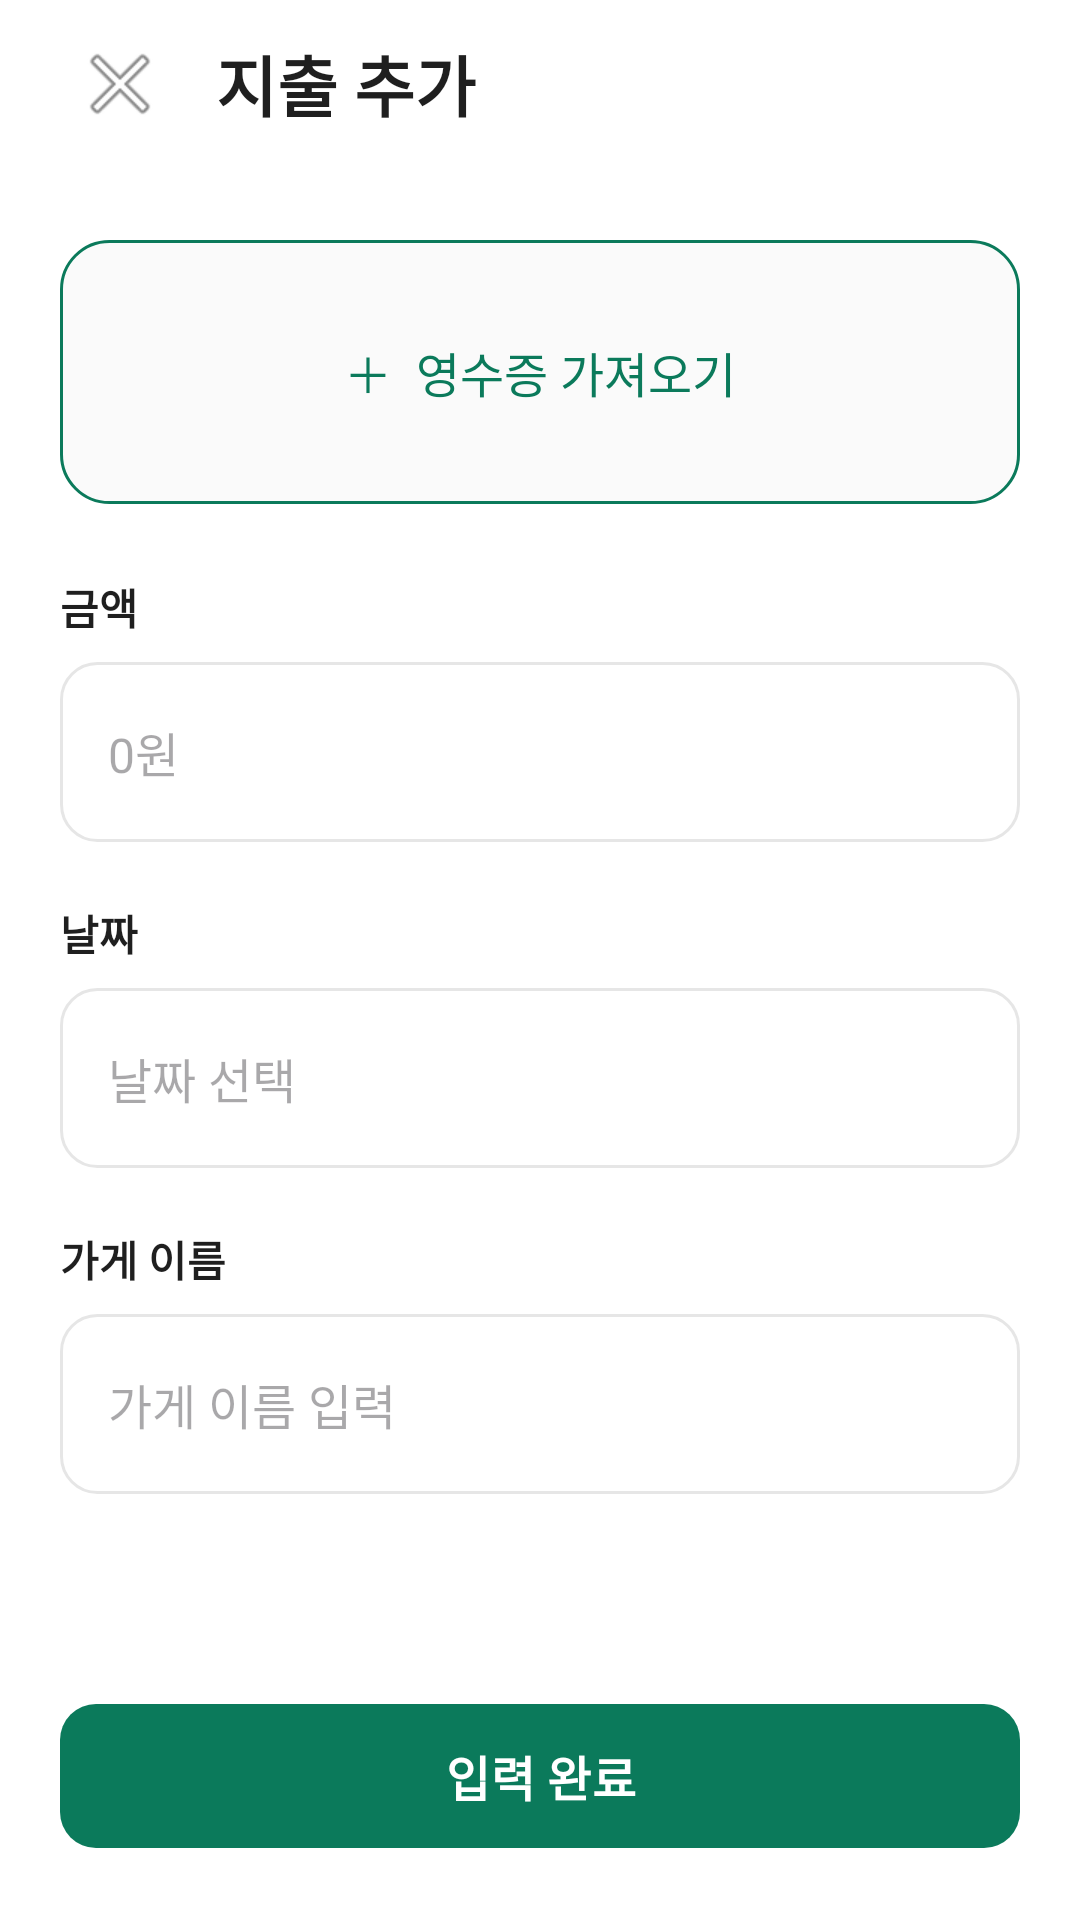

Where to tap for icons on this 1080 x 1920 app screen, as (x,y):
닫기: (120,84)
